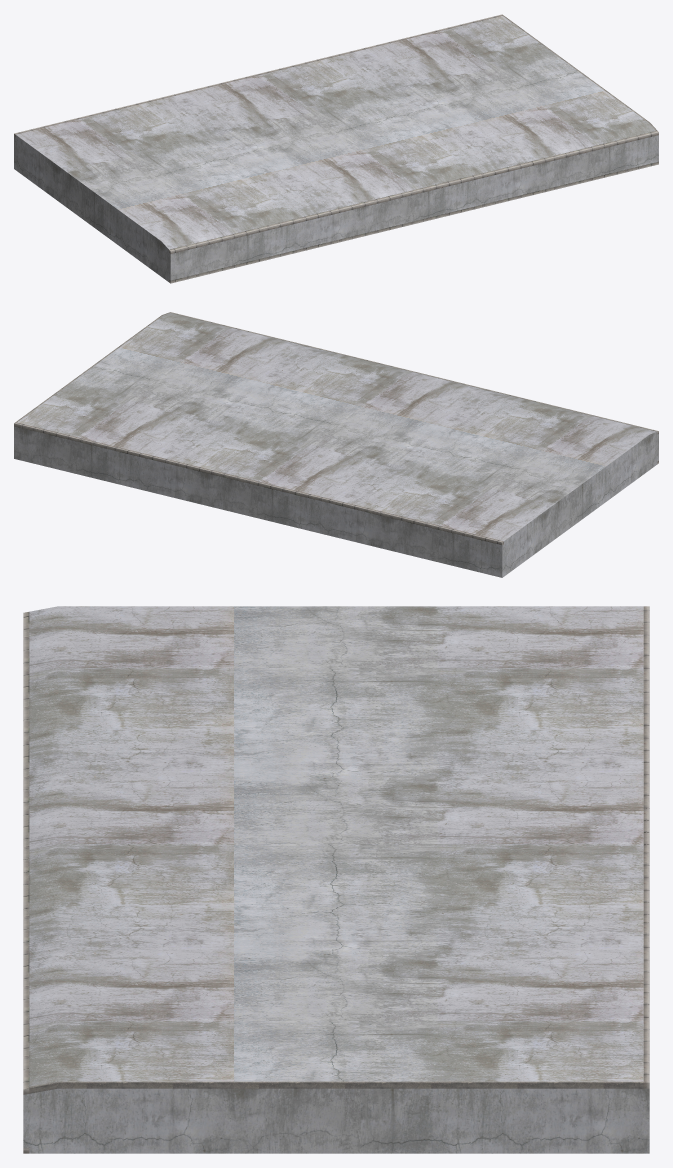
Rendered from bil_site_03_18mx10m.fbx.
3 renders of one model, top to bottom at view 1: azimuth 30°, elevation 25°; view 2: azimuth 150°, elevation 25°; view 3: azimuth 270°, elevation 25°, orthographic. The views are drawn at different scales.
Visible parts, largest first — view 1: bil_site_03_18mx10m; view 2: bil_site_03_18mx10m; view 3: bil_site_03_18mx10m.
Part boxes in pixels (x1=…): bil_site_03_18mx10m: x1=14, y1=14, x2=658, y2=283; bil_site_03_18mx10m: x1=14, y1=312, x2=658, y2=577; bil_site_03_18mx10m: x1=23, y1=606, x2=649, y2=1153.
Size of the model in its own units: 1800 by 125 by 1000.
